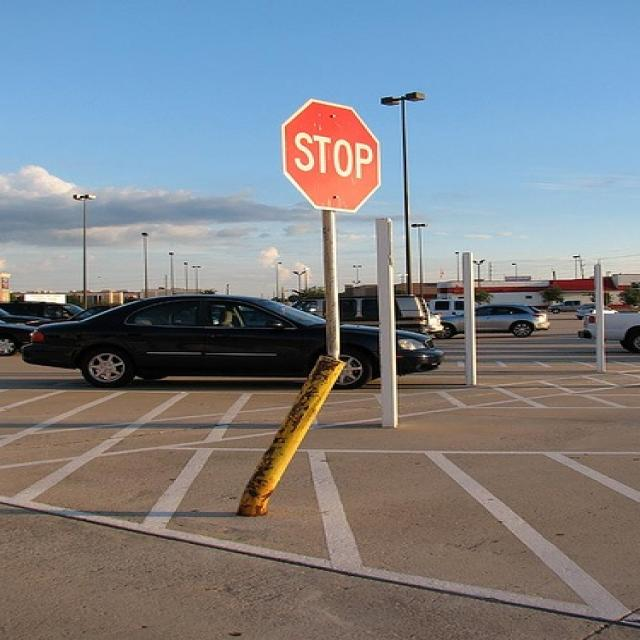car: (24, 293, 329, 384), (295, 294, 442, 336), (433, 302, 548, 337), (574, 311, 638, 353), (0, 306, 46, 354), (425, 297, 480, 316), (572, 300, 618, 318)
pole: (368, 214, 404, 429), (316, 210, 344, 356), (458, 250, 482, 388), (588, 261, 608, 371)
